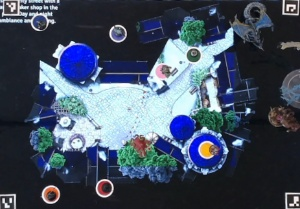blue: (30, 13, 49, 32)
green: (184, 46, 201, 63)
orange: (40, 184, 63, 204)
pink: (155, 61, 172, 79)
red: (92, 177, 115, 199)
violet: (107, 22, 127, 45)
yellow: (196, 138, 218, 161)
